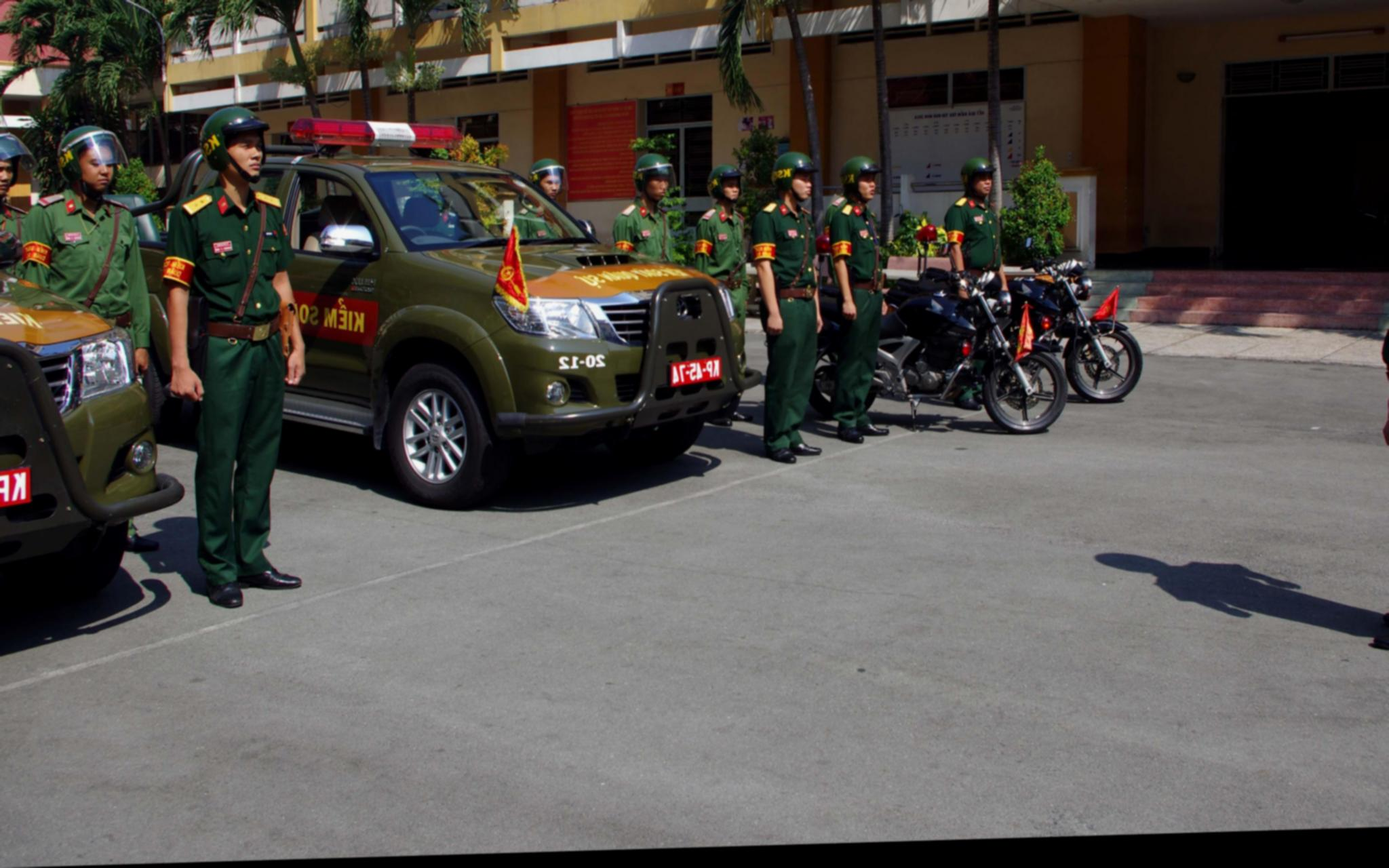License_Plate: (666, 353, 721, 389)
